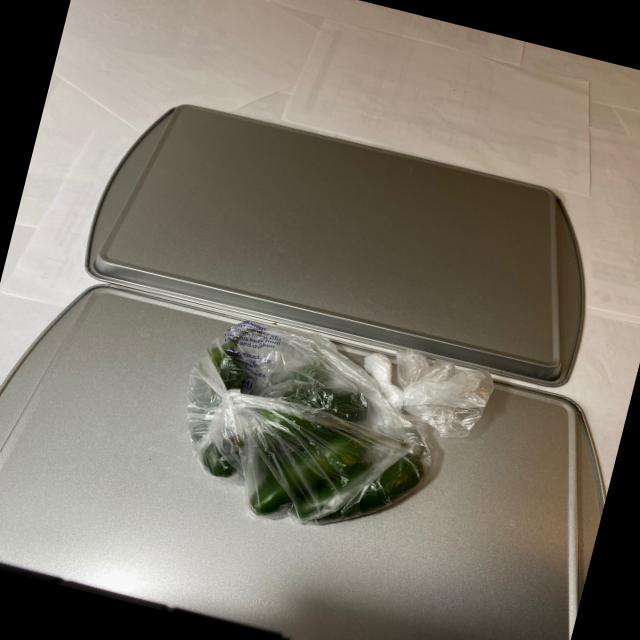chilli: (162, 317, 451, 540)
